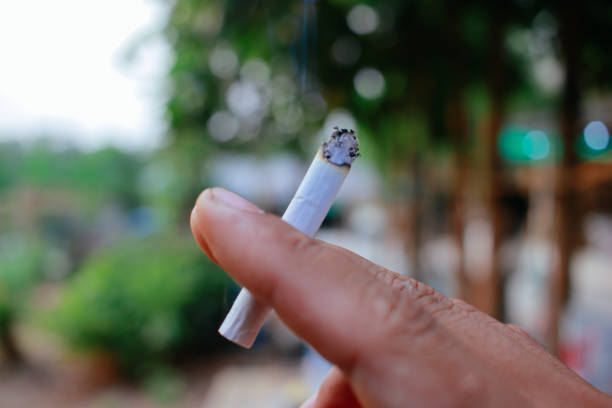cigarette: (217, 125, 361, 350)
